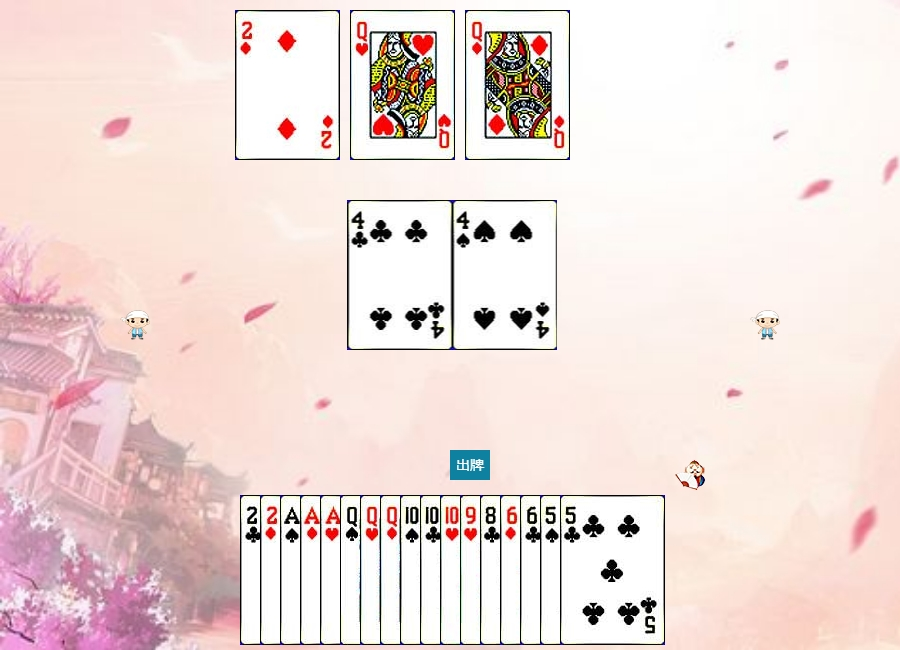10~2: (420, 495, 525, 645)
10~3: (440, 495, 545, 645)
10~4: (400, 495, 505, 645)
12~1: (465, 10, 570, 160), (380, 495, 485, 645)
12~3: (350, 10, 455, 160), (360, 495, 465, 645)
12~4: (340, 495, 445, 645)
14~1: (300, 495, 405, 645)
14~3: (320, 495, 425, 645)
14~4: (280, 495, 385, 645)
15~1: (235, 10, 340, 160), (260, 495, 365, 645)
15~2: (240, 495, 345, 645)
4~2: (348, 200, 453, 350)
4~4: (453, 200, 558, 350)
5~2: (560, 495, 665, 645)
5~4: (540, 495, 645, 645)
6~1: (500, 495, 605, 645)
6~2: (520, 495, 625, 645)
8~2: (480, 495, 585, 645)
9~3: (460, 495, 565, 645)
